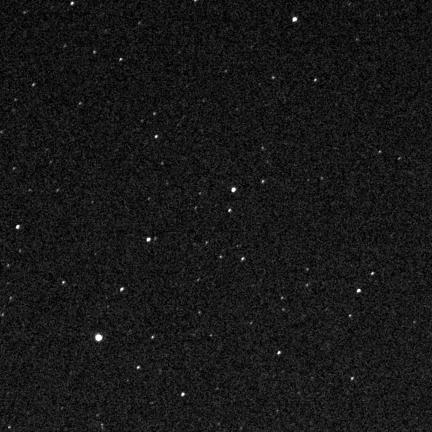blob: (95, 334, 103, 342), (232, 187, 236, 192), (293, 17, 297, 22), (181, 392, 185, 396), (16, 225, 20, 229), (147, 238, 151, 242), (357, 289, 361, 293), (120, 287, 124, 291), (241, 257, 245, 261), (371, 272, 375, 275), (278, 351, 281, 355), (229, 209, 232, 212), (137, 366, 140, 369)
